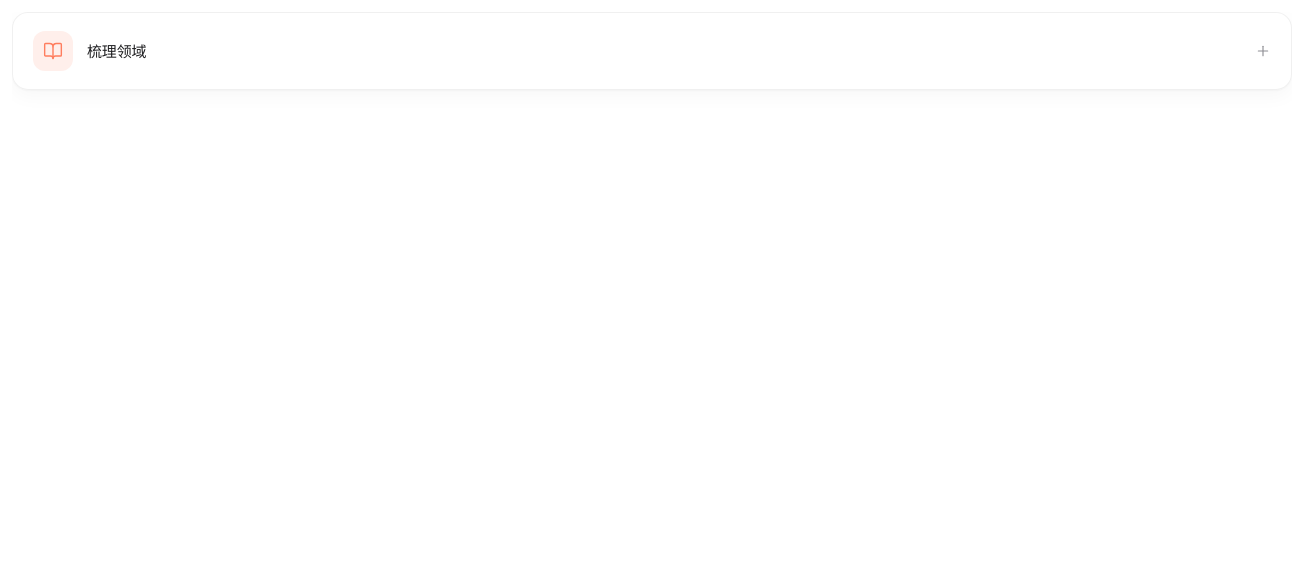
it: research discovery interaction › takes an explicit date range from the window dropdown instead of a separate switch
This screenshot has width=1304, height=567.
Later steps or results of the test are not shown.
Click the button with class "research-entry" at coordinates (53, 51), box x1=12 y1=12 x2=1292 y2=90
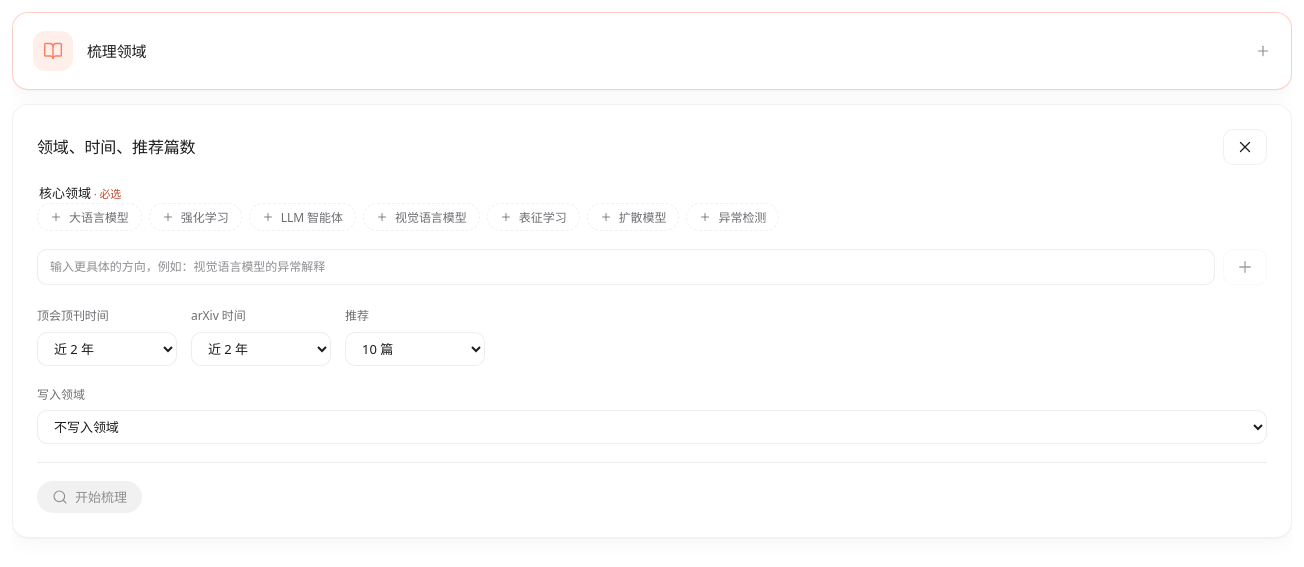
Select "近 10 年" in the dropdown labelled "顶会顶刊时间" at coordinates (107, 349), box x1=37 y1=332 x2=177 y2=366
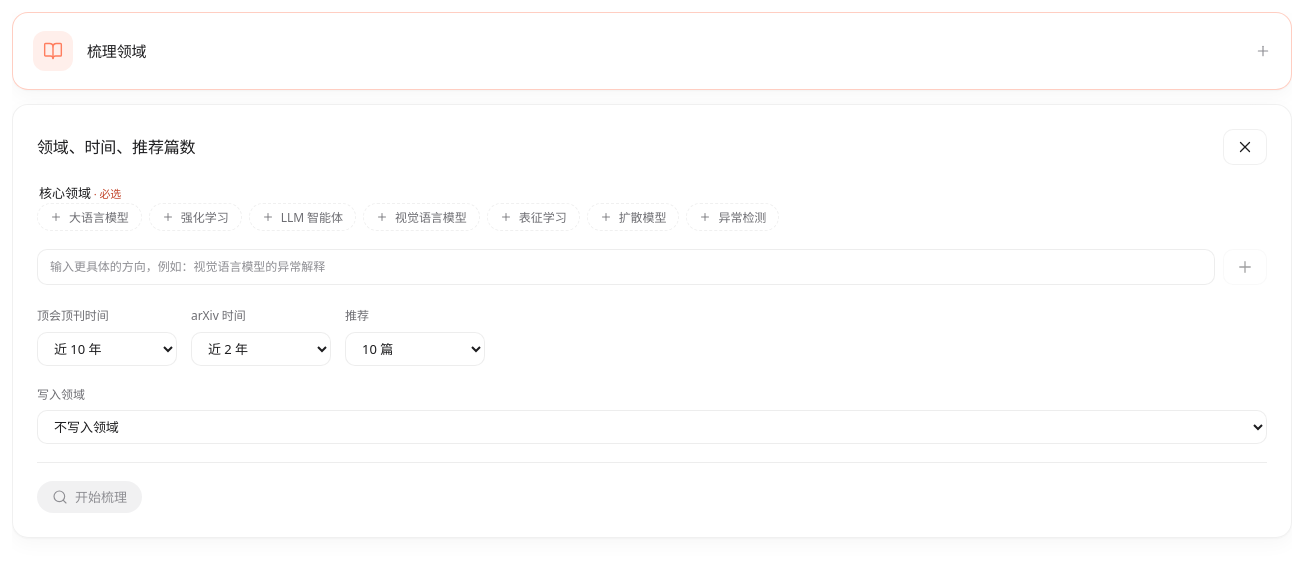
Select "自定义" in the dropdown labelled "顶会顶刊时间" at coordinates (107, 349), box x1=37 y1=332 x2=177 y2=366
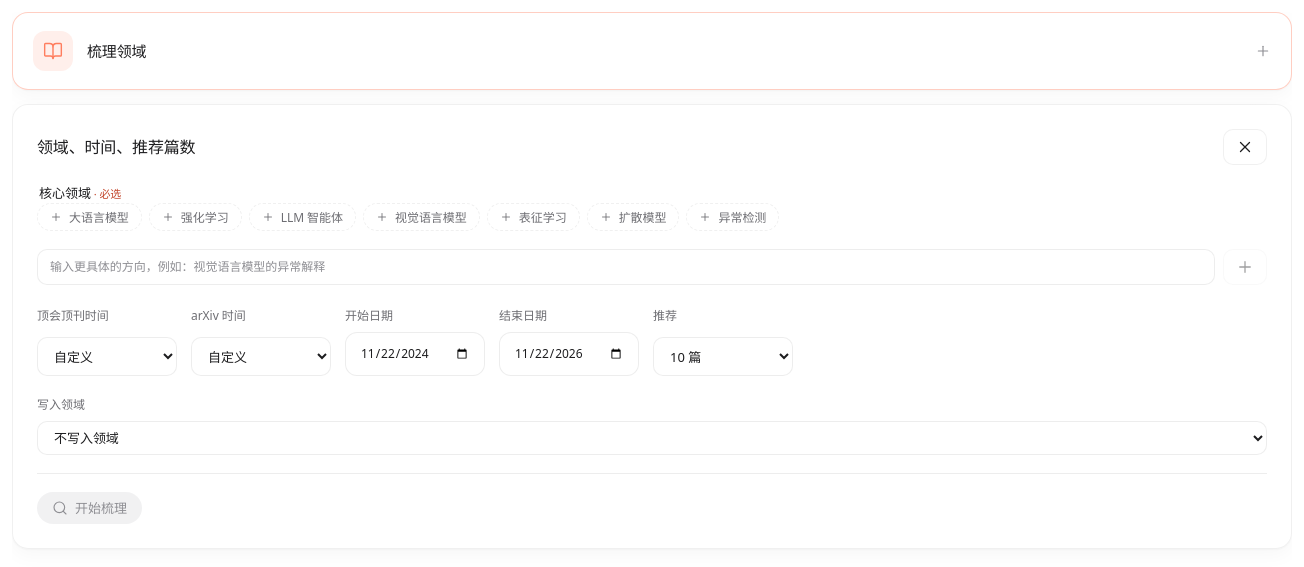
Expected: the dropdown labelled "arXiv 时间" shows "自定义"
Expected: the number of date fields is 2, x1=345 y1=332 x2=485 y2=376; x1=499 y1=332 x2=639 y2=376
Select "近 6 个月" in the dropdown labelled "arXiv 时间" at coordinates (261, 357), box x1=191 y1=337 x2=331 y2=376
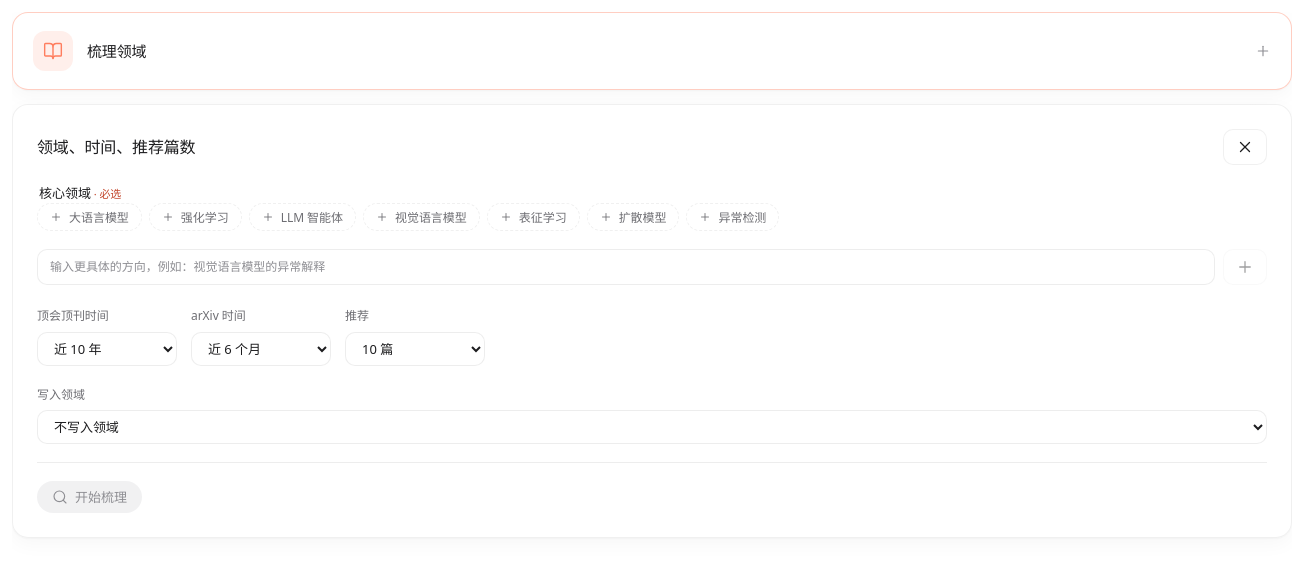
Expected: no date fields are shown
